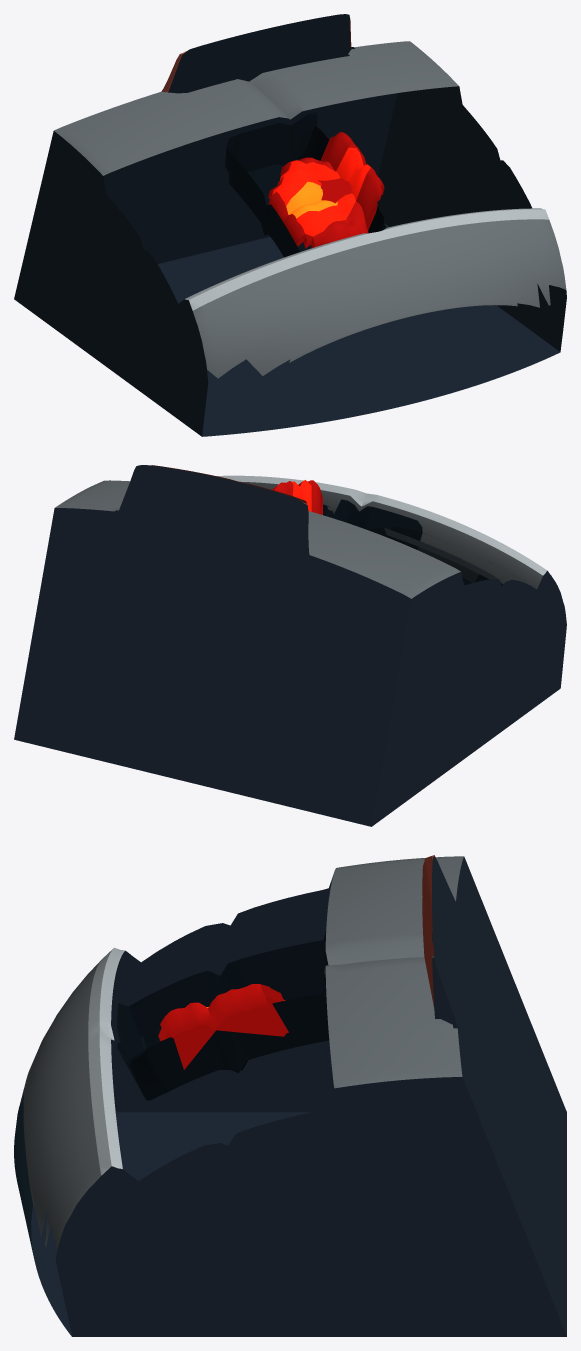
File: armour_dome_7.glb
3 views of the same model, one above another, from view 1: azimuth 30°, elevation 25°; view 2: azimuth 150°, elevation 25°; view 3: azimuth 270°, elevation 25° (orthographic). The views are drawn at different scales.
Parts seen in each view (by area): view 1: armour_dome_7; view 2: armour_dome_7; view 3: armour_dome_7.
Part boxes in pixels (x1,y1,x2,y2): armour_dome_7: (14, 14, 566, 436); armour_dome_7: (14, 465, 566, 826); armour_dome_7: (14, 855, 566, 1336).
Bounding box in the file's own units: 24 × 16.76 × 24.96.
